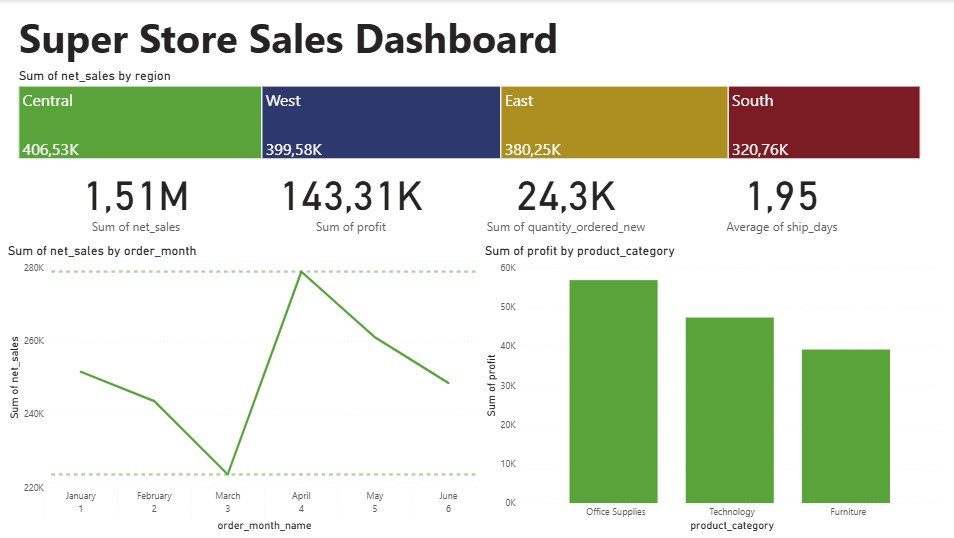

The dashboard page shown, as its layout file describes it:
{"tool":"powerbi","page":{"name":"Summary Dashboard","canvas":[1280,720],"ordinal":0},"visuals":[{"type":"card","fields":{"Values":["Sum(reporting_table.net_sales)"]},"box":[72,204.3,226.2,120],"z":0},{"type":"card","fields":{"Values":["Sum(reporting_table.profit)"]},"box":[358.6,204.3,226.2,120],"z":1000},{"type":"card","fields":{"Values":["Sum(reporting_table.quantity_ordered_new)"]},"box":[645.1,204.3,226.2,120],"z":2000},{"type":"card","fields":{"Values":["Avg(reporting_table.ship_days)"]},"box":[931.7,204.3,226.2,120],"z":3000},{"type":"textbox","box":[24.4,7.7,1210.6,82.2],"z":4000},{"type":"lineChart","title":"Sum of net_sales by order_month","fields":{"Y":["Sum(reporting_table.net_sales)"],"Category":["reporting_table.order_month","reporting_table.order_month_name"]},"box":[9,323.9,636.1,389.4],"z":5000},{"type":"clusteredColumnChart","fields":{"Y":["Sum(reporting_table.profit)"],"Category":["reporting_table.product_category"]},"box":[645.1,323.9,618.2,389.4],"z":6000},{"type":"treemap","fields":{"Values":["Sum(reporting_table.net_sales)"],"Group":["reporting_table.region"]},"box":[24.4,90,1210.6,125.9],"z":7000}]}

Visuals, with their boxes in screenshot pixels (x1, y1, x2, y2), scaled from the page's 1280x720 canvas onto the 954x538 screenshot:
card - Sum(reporting_table.net_sales): BBox(54, 153, 222, 242)
card - Sum(reporting_table.profit): BBox(267, 153, 436, 242)
card - Sum(reporting_table.quantity_ordered_new): BBox(481, 153, 649, 242)
card - Avg(reporting_table.ship_days): BBox(694, 153, 863, 242)
textbox: BBox(18, 6, 920, 67)
"Sum of net_sales by order_month" lineChart: BBox(7, 242, 481, 533)
clusteredColumnChart - Sum(reporting_table.profit) x reporting_table.product_category: BBox(481, 242, 942, 533)
treemap - Sum(reporting_table.net_sales) x reporting_table.region: BBox(18, 67, 920, 161)
